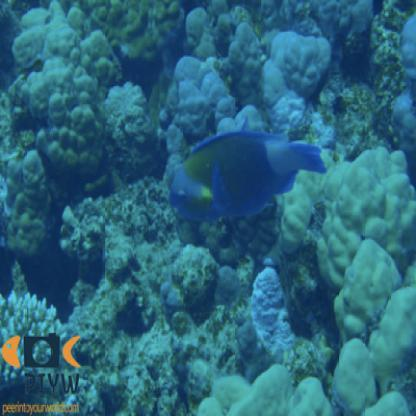parrot: (165, 113, 330, 230)
